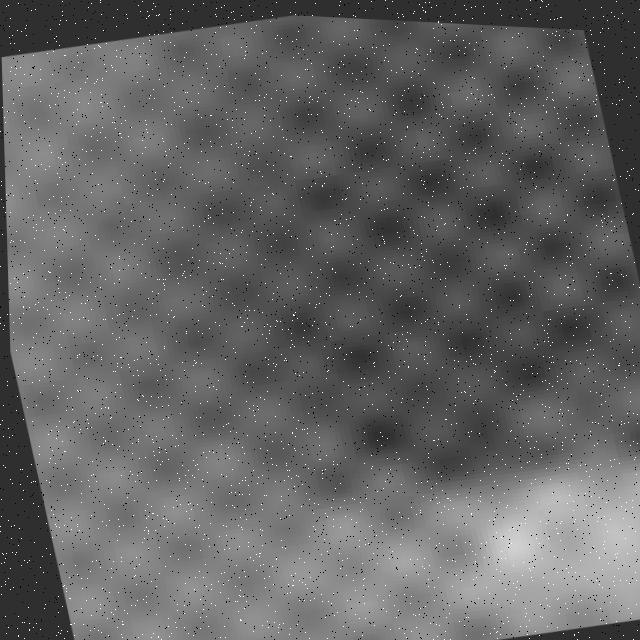person: (192, 382, 640, 640)
